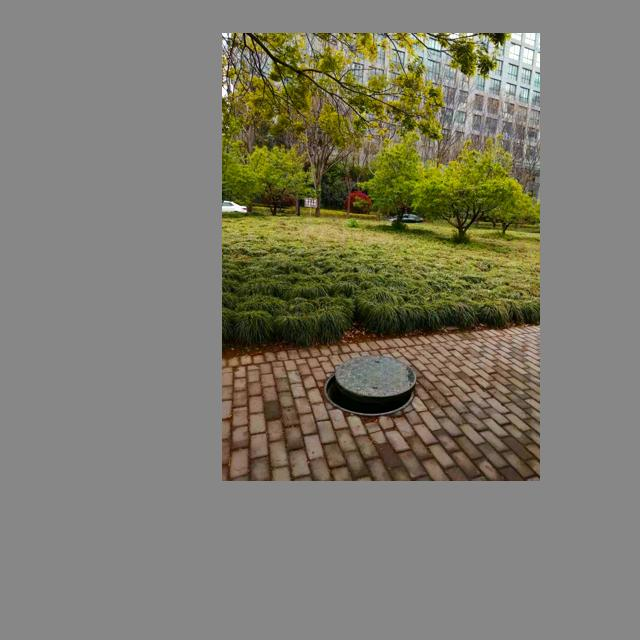uncovered: (318, 346, 426, 426)
